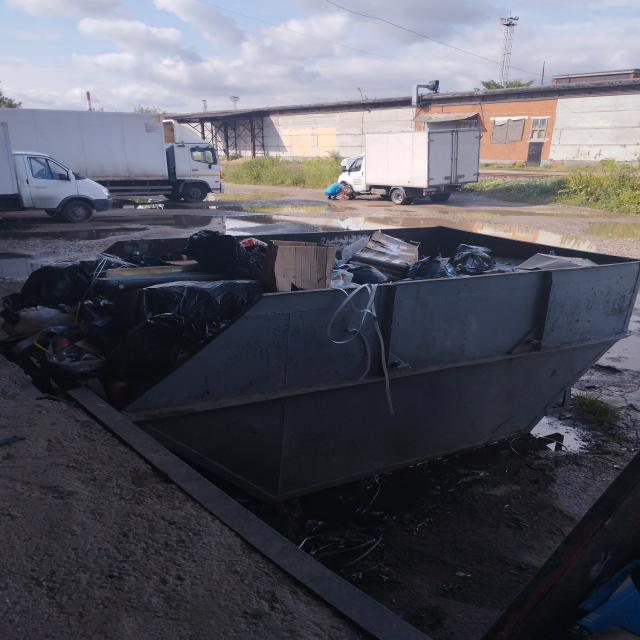bin: (123, 262, 639, 506), (104, 226, 638, 263)
plastic: (0, 232, 605, 403)
